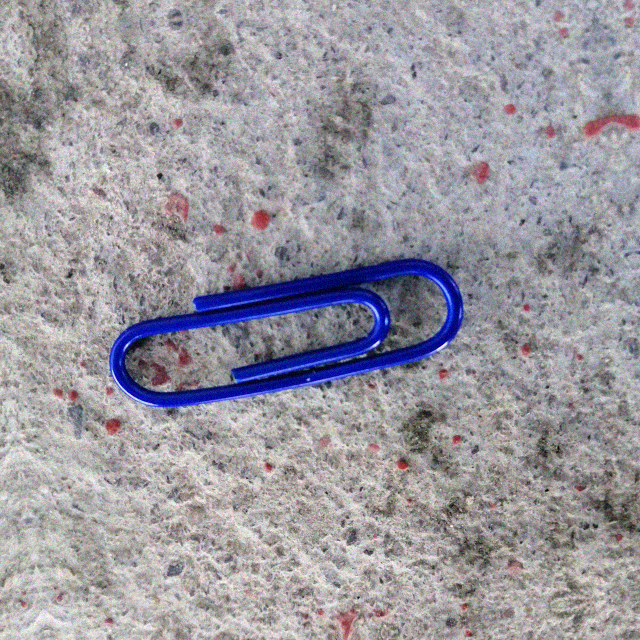pin: (107, 259, 465, 414)
